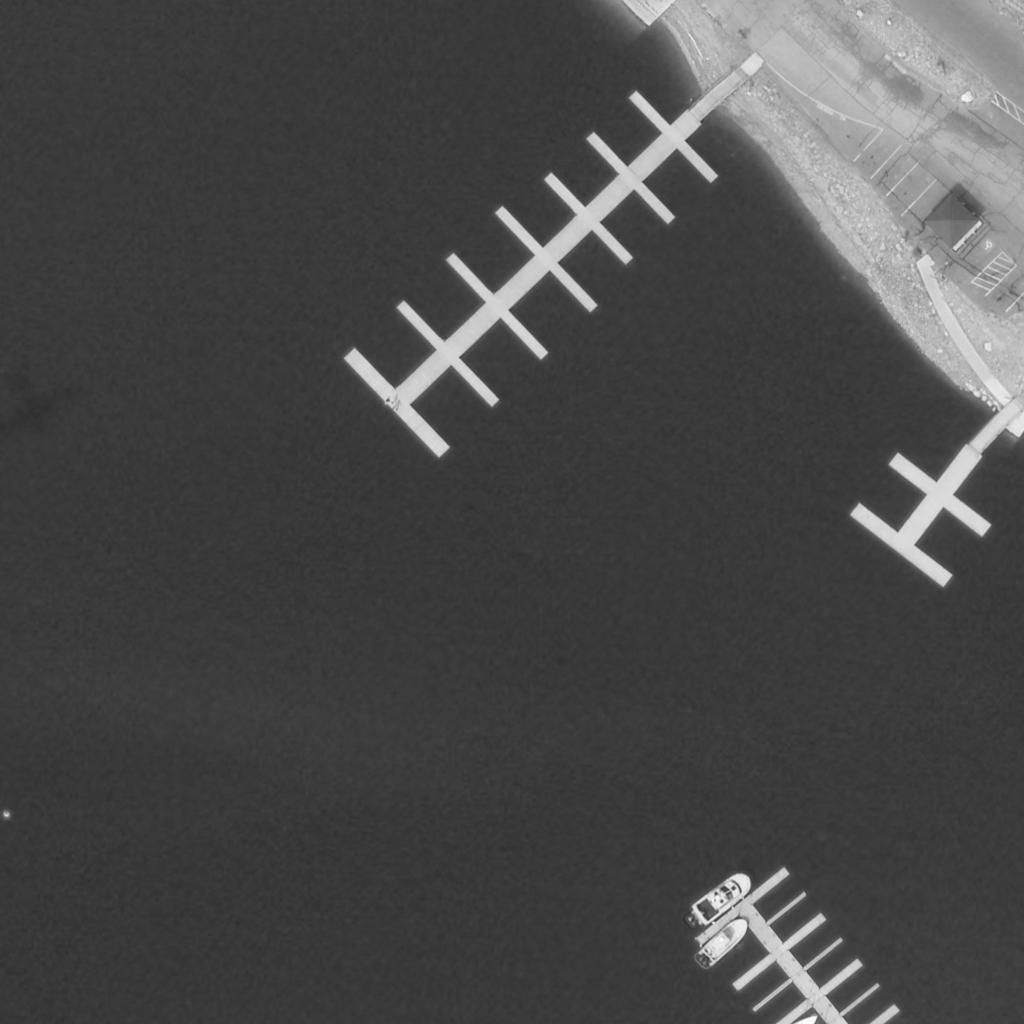vehicle: (689, 871, 757, 925), (697, 916, 753, 970)
